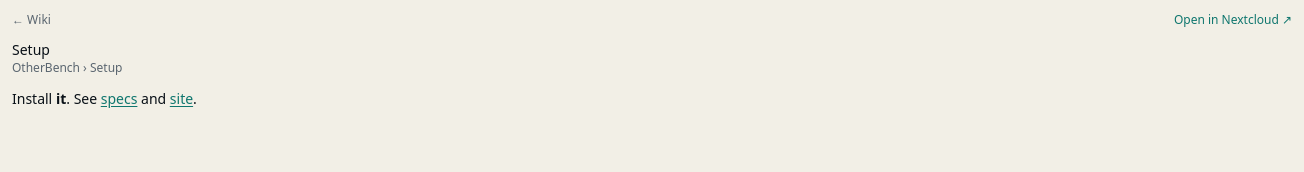
it: WikiTab › a fileId link to a page in the tree opens it in the tab
Click the link "specs" at [119, 98], box [101,89,137,108]
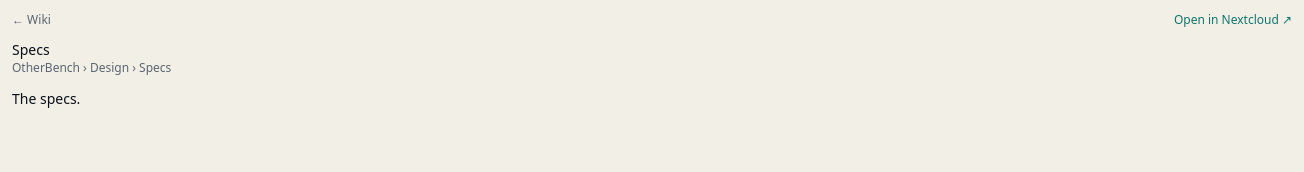
Result: the text "The specs." is shown at [12,89,80,108]
